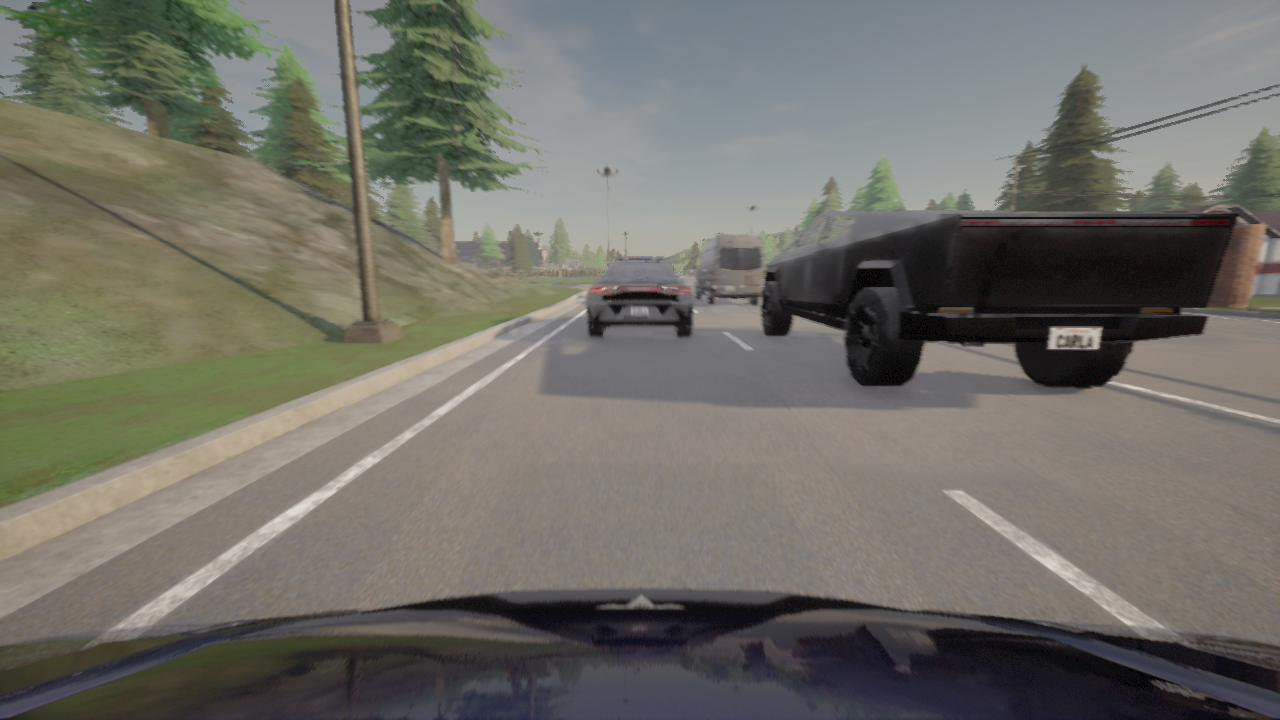cyclist: (0, 588, 1279, 719), (760, 211, 1237, 387), (586, 257, 693, 336), (693, 235, 764, 304)
